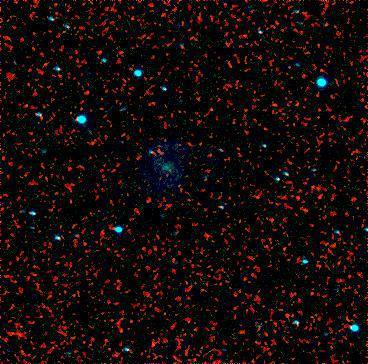star: (170, 161, 200, 191)
